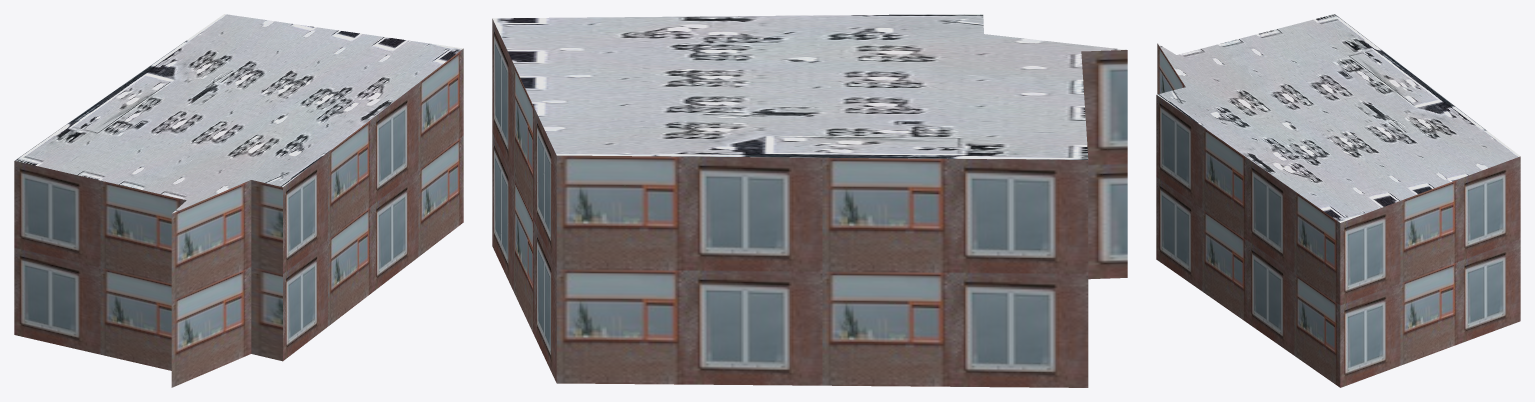
Rendered from ResTex__4771.fbx.
The picture shows the model from 3 angles, left to right: view 1: azimuth 30°, elevation 25°; view 2: azimuth 150°, elevation 25°; view 3: azimuth 270°, elevation 25°; orthographic projection. The views are drawn at different scales.
Parts seen in each view (by area): view 1: CityEngineMaterial_19_m, CityEngineMaterial_m; view 2: CityEngineMaterial_19_m, CityEngineMaterial_m; view 3: CityEngineMaterial_19_m, CityEngineMaterial_m.
Boxes of the visible parts, x1,y1,x2,y2 form: CityEngineMaterial_19_m: (14,48,463,387); CityEngineMaterial_m: (14,14,463,213); CityEngineMaterial_19_m: (492,19,1127,387); CityEngineMaterial_m: (492,14,1126,159); CityEngineMaterial_19_m: (1156,43,1520,387); CityEngineMaterial_m: (1157,14,1520,222).
Size of the model in its own units: 16.31 by 6 by 12.01.
Materials: 2 (2 with a texture image).
